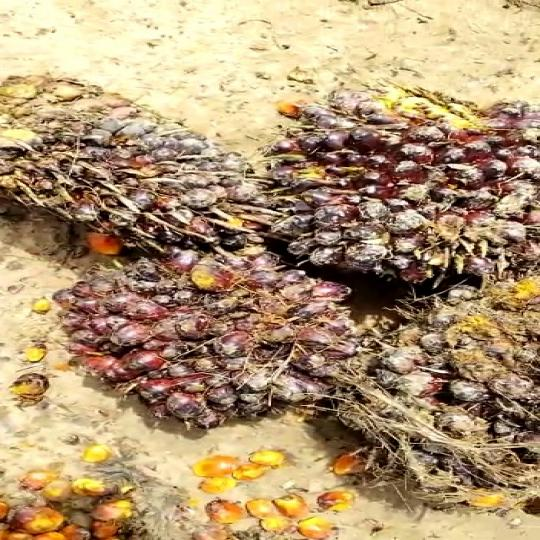kurang masak: (48, 242, 388, 414), (0, 64, 268, 264), (252, 89, 540, 271), (317, 285, 540, 491)
